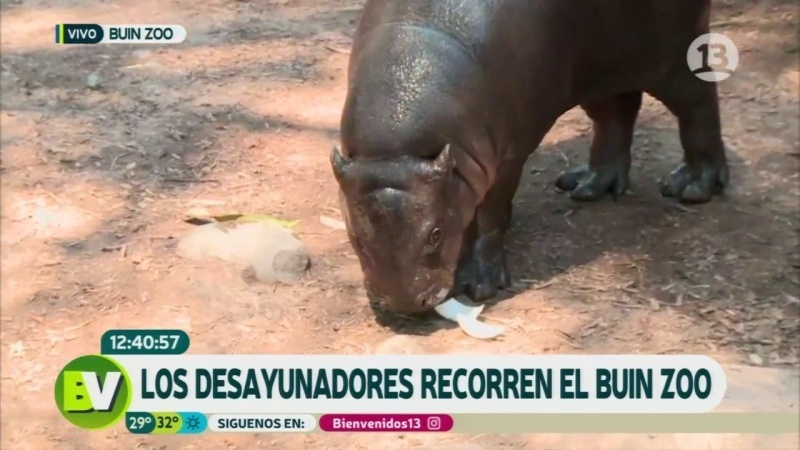hipopotamo: (311, 1, 750, 324)
